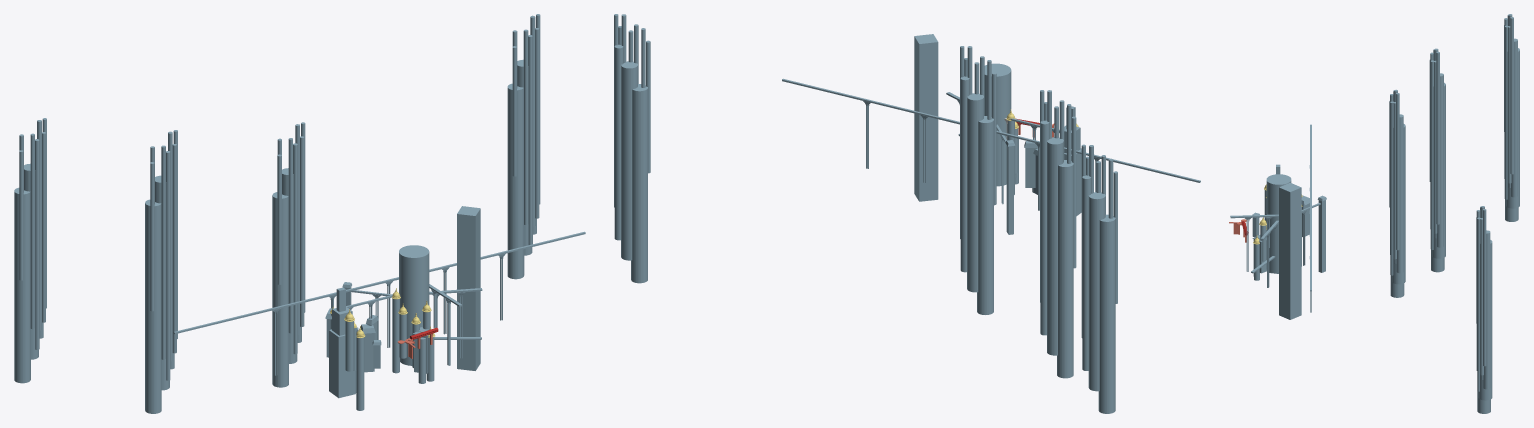
3 renders of one model, left to right at view 1: azimuth 30°, elevation 25°; view 2: azimuth 150°, elevation 25°; view 3: azimuth 270°, elevation 25°, orthographic. The views are drawn at different scales.
Visible parts, largest first — view 1: Cube.021, Cylinder.034, Cylinder.044, Cylinder.054, Cylinder.024, Cylinder, Cube.007, Cube.027, Cylinder.028, Cylinder.027, Cylinder.038, Cylinder.048 (+23 smaller); view 2: Cube.021, Cylinder.034, Cylinder.044, Cylinder.054, Cylinder.024, Cylinder.033, Cylinder.043, Cylinder.023, Cylinder.053, Cylinder, Cylinder.032, Cylinder.022 (+7 smaller); view 3: Cube.021, Cylinder, Cylinder.052, Cylinder.022, Cylinder.032, Cylinder.053, Cylinder.023, Cylinder.028, Cylinder.042, Cylinder.038, Cylinder.018, Cylinder.031 (+13 smaller).
Boxes of the visible parts, left/top/right/bottom form: Cube.021: left=457, top=206, right=480, bottom=370; Cylinder.034: left=145, top=199, right=161, bottom=413; Cylinder.044: left=14, top=187, right=30, bottom=383; Cylinder.054: left=507, top=83, right=524, bottom=279; Cylinder.024: left=272, top=192, right=288, bottom=387; Cylinder: left=399, top=245, right=429, bottom=365; Cube.007: left=329, top=287, right=358, bottom=398; Cube.027: left=173, top=231, right=585, bottom=334; Cylinder.028: left=166, top=151, right=170, bottom=380; Cylinder.027: left=161, top=145, right=165, bottom=359; Cylinder.038: left=35, top=139, right=39, bottom=349; Cylinder.048: left=528, top=35, right=532, bottom=244; Cube.021: left=914, top=34, right=938, bottom=201; Cylinder.034: left=1057, top=160, right=1073, bottom=378; Cylinder.044: left=1098, top=214, right=1115, bottom=413; Cylinder.054: left=631, top=84, right=647, bottom=283; Cylinder.024: left=977, top=116, right=993, bottom=314; Cylinder.033: left=1047, top=137, right=1063, bottom=355; Cylinder.043: left=1088, top=192, right=1105, bottom=391; Cylinder.023: left=967, top=93, right=983, bottom=292; Cylinder.053: left=621, top=61, right=637, bottom=260; Cylinder: left=984, top=63, right=1011, bottom=186; Cylinder.032: left=1040, top=120, right=1049, bottom=335; Cylinder.022: left=960, top=76, right=969, bottom=272; Cube.021: left=1279, top=182, right=1301, bottom=319; Cylinder: left=1266, top=174, right=1291, bottom=273; Cylinder.052: left=1483, top=230, right=1490, bottom=389; Cylinder.022: left=1396, top=114, right=1403, bottom=273; Cylinder.032: left=1436, top=73, right=1443, bottom=247; Cylinder.053: left=1478, top=240, right=1492, bottom=400; Cylinder.023: left=1392, top=124, right=1405, bottom=284; Cylinder.028: left=1430, top=60, right=1433, bottom=249; Cylinder.042: left=1511, top=38, right=1517, bottom=197; Cylinder.038: left=1504, top=25, right=1508, bottom=199; Cylinder.018: left=1390, top=101, right=1393, bottom=275; Cylinder.031: left=1436, top=51, right=1439, bottom=224.
Bounding box in the file's own units: 70214 × 36266 × 42189.
